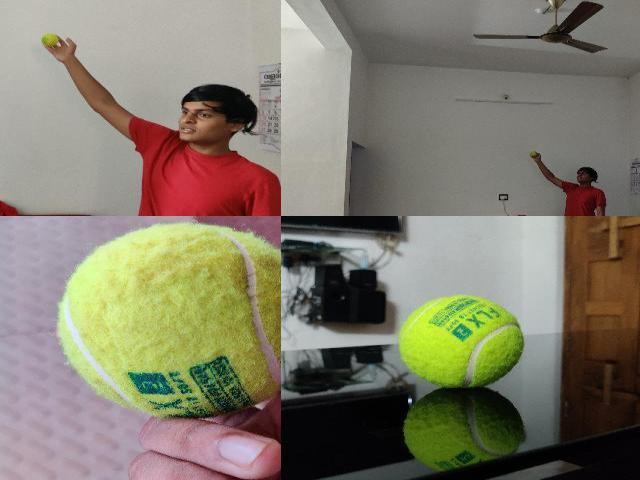tennis-ball: (56, 221, 280, 420), (398, 294, 524, 388), (40, 34, 58, 46), (530, 152, 536, 156)
